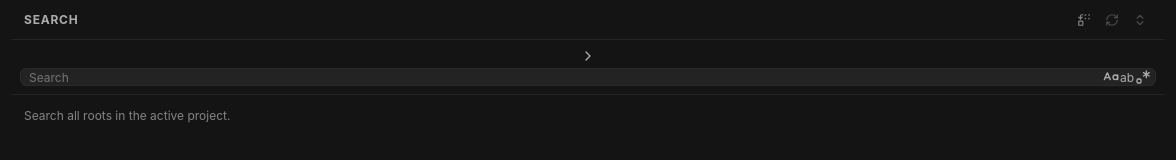
it: Workspace Search view › keeps case-insensitive emphasis independent of the browser locale
This screenshot has width=1176, height=160.
In the search field named "Search text": coordinates (564, 77) [29,69,1099,85], type "i"
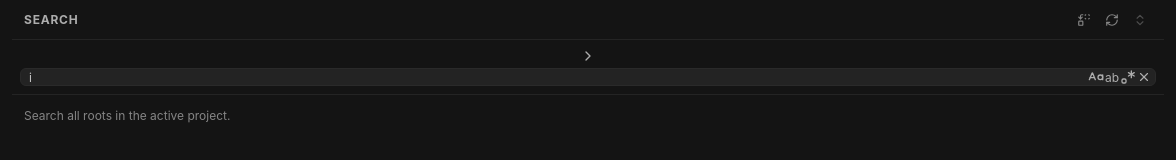
Submit the form named "Search text", box [12,40,1164,95]
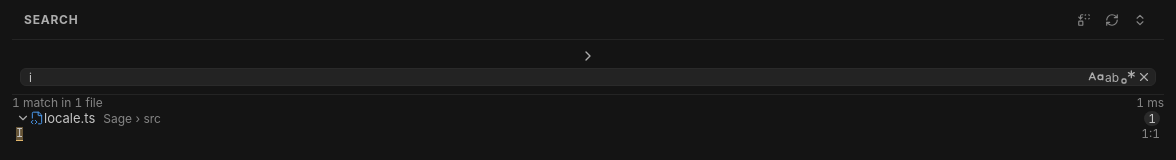
Now the text "I" is shown, box [16,126,23,140]
